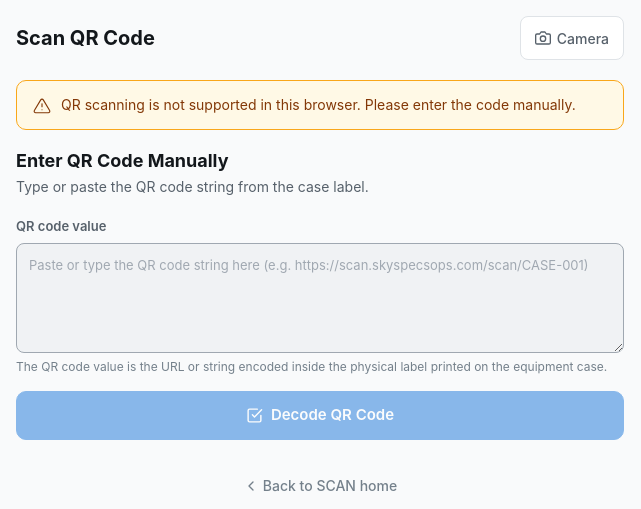
Test: QrScannerClient › 10. manual submit button is enabled when textarea has a value
Replace the text in the text box with test id "manual-qr-input" with "CASE-001". click: coordinates (320, 298)
box: [16,243,624,353]
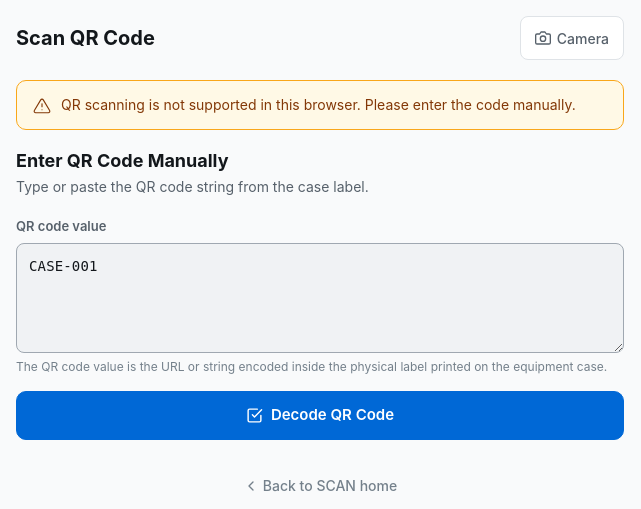
Now the button with test id "manual-qr-submit" is enabled, box [16,391,624,440]
